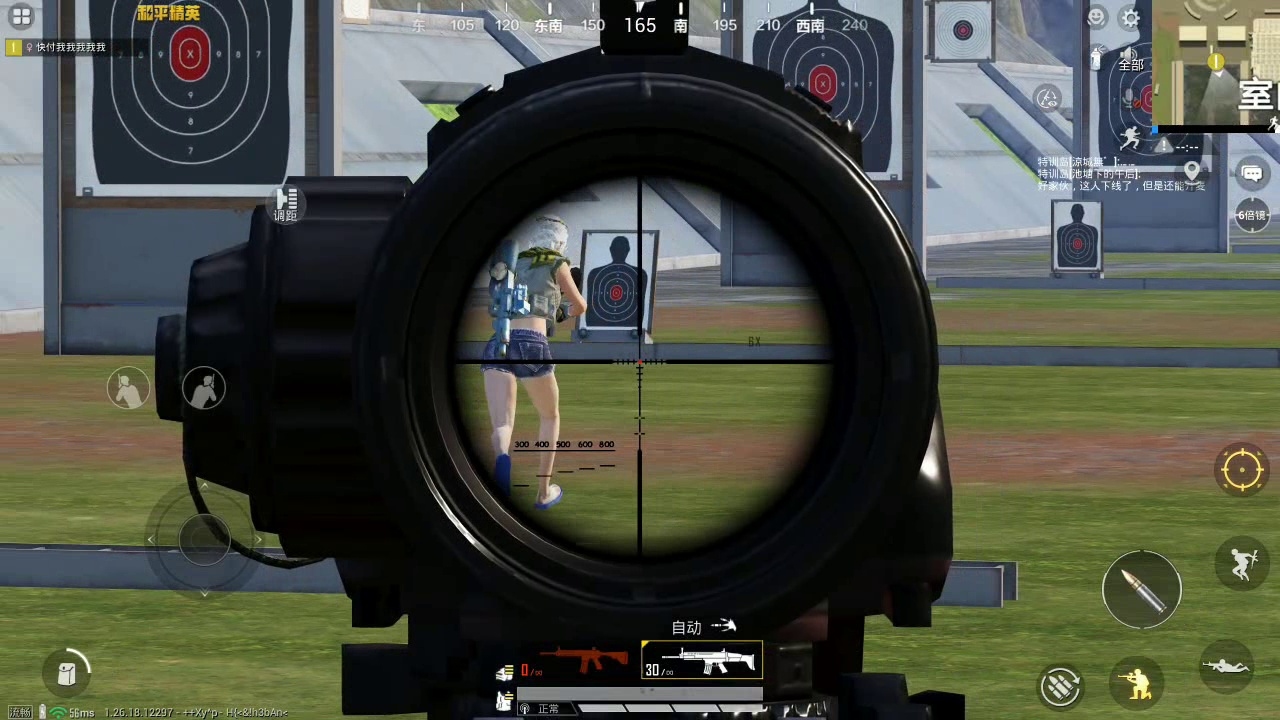enemy: (482, 215, 561, 513)
